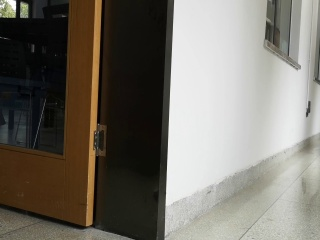room: (2, 3, 171, 235)
